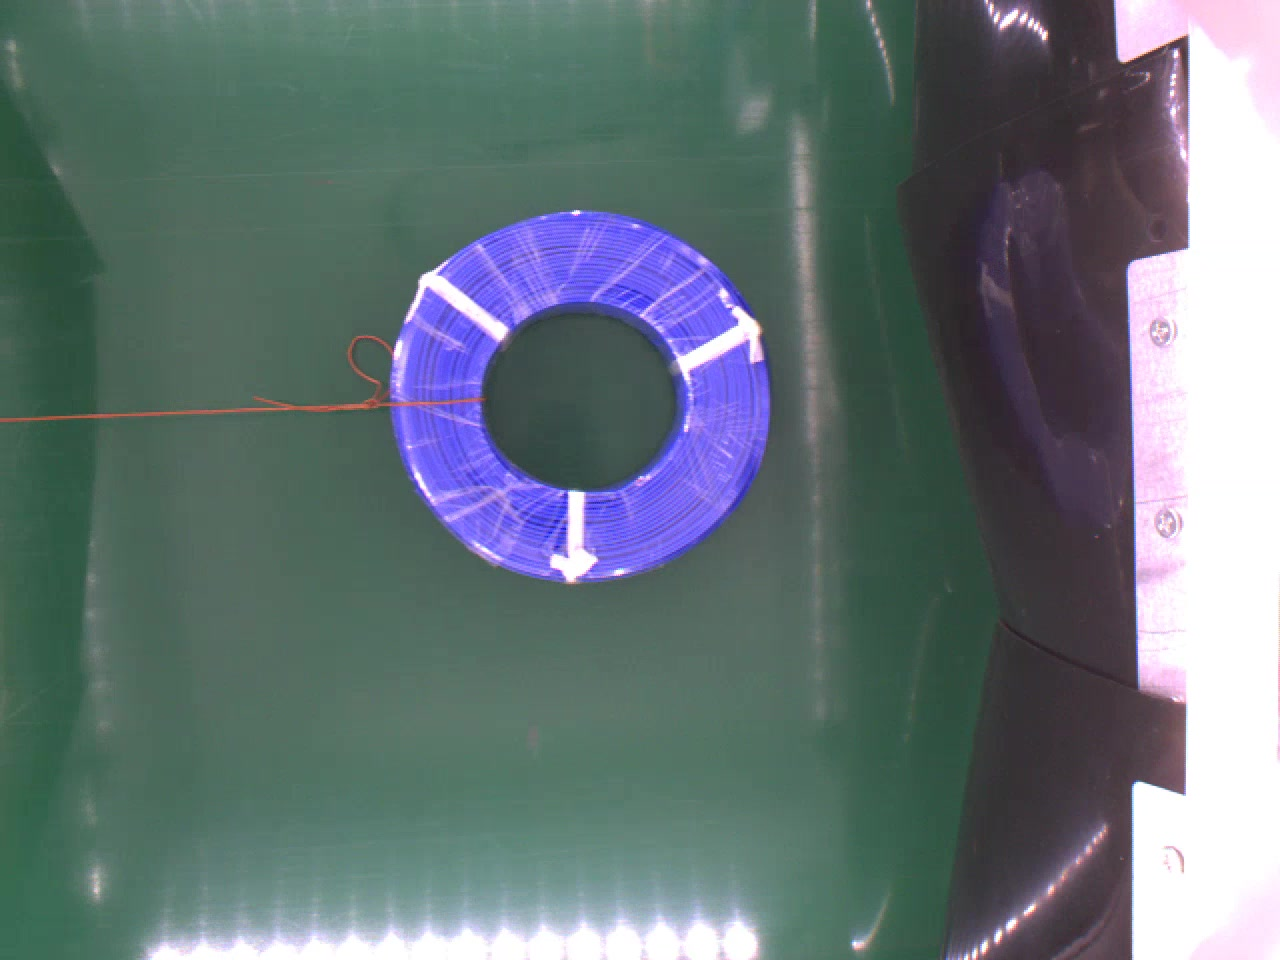blue: (385, 204, 776, 583)
